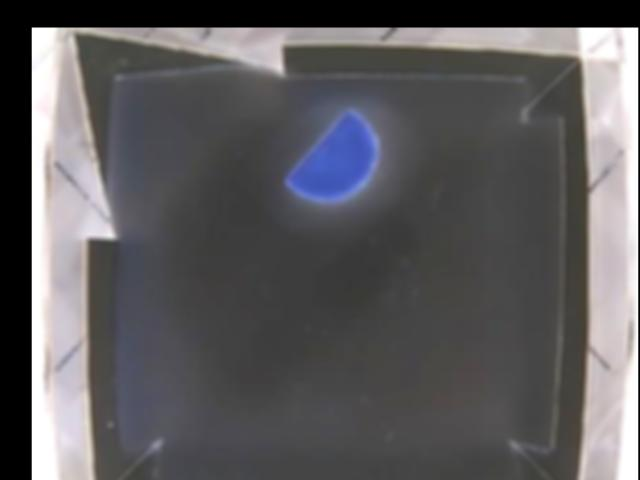Potato: (281, 110, 381, 200)
